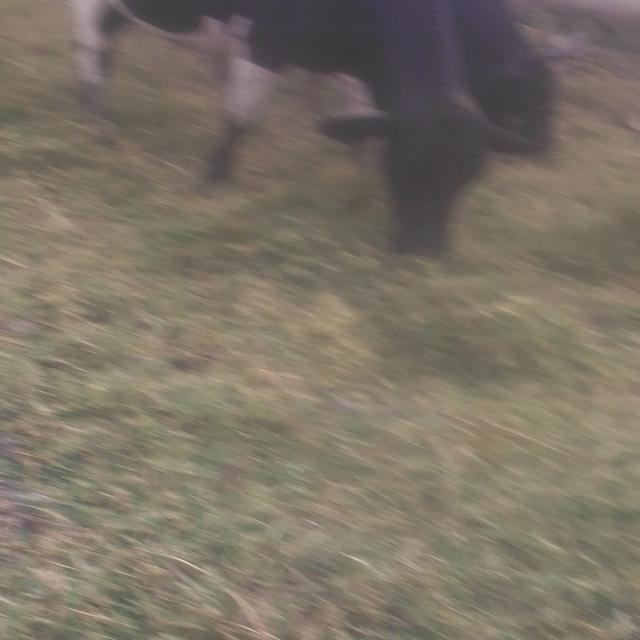Front: (63, 0, 545, 252)
